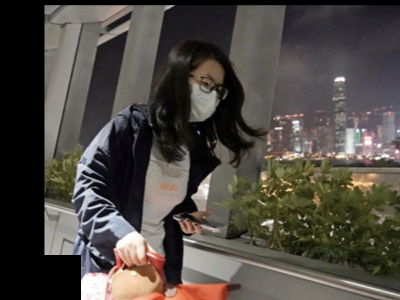with_mask: (188, 73, 224, 122)
